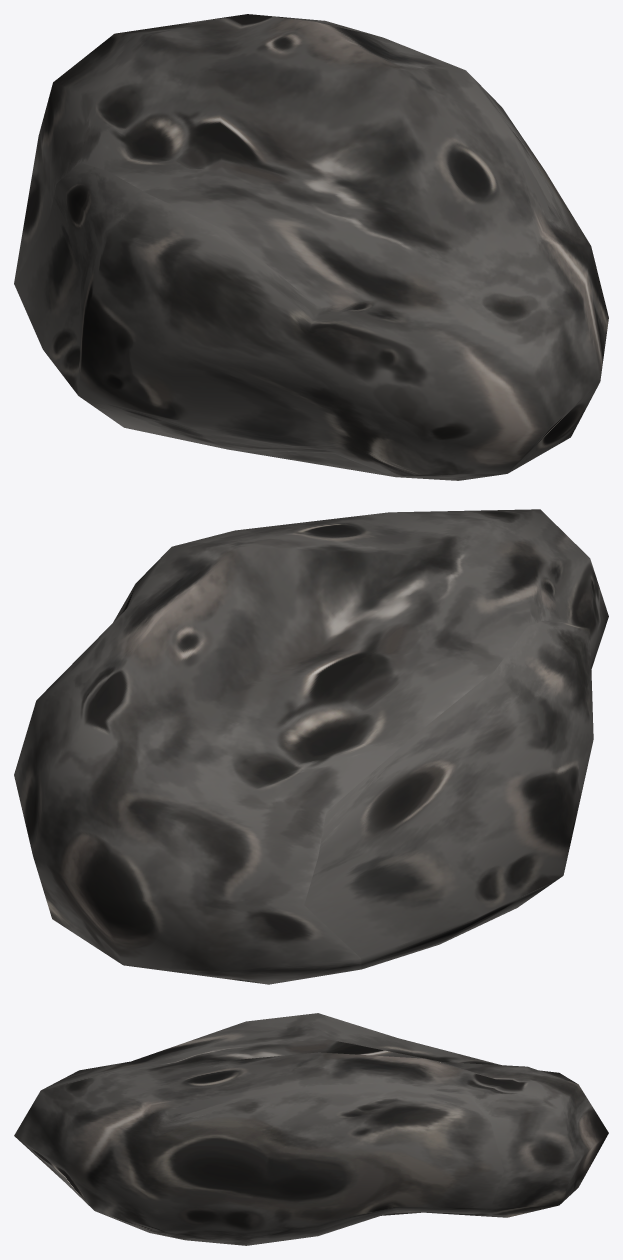
File: asteroide3.fbx
3 renders of one model, top to bottom at view 1: azimuth 30°, elevation 25°; view 2: azimuth 150°, elevation 25°; view 3: azimuth 270°, elevation 25°, orthographic. The views are drawn at different scales.
Parts seen in each view (by area): view 1: asteroide3; view 2: asteroide3; view 3: asteroide3.
Boxes of the visible parts, bbox=[...] form: asteroide3: bbox=[14, 14, 608, 480]; asteroide3: bbox=[14, 509, 608, 984]; asteroide3: bbox=[14, 1013, 608, 1245].
Bounding box in the file's own units: 0.8302 × 0.5442 × 1.52.
